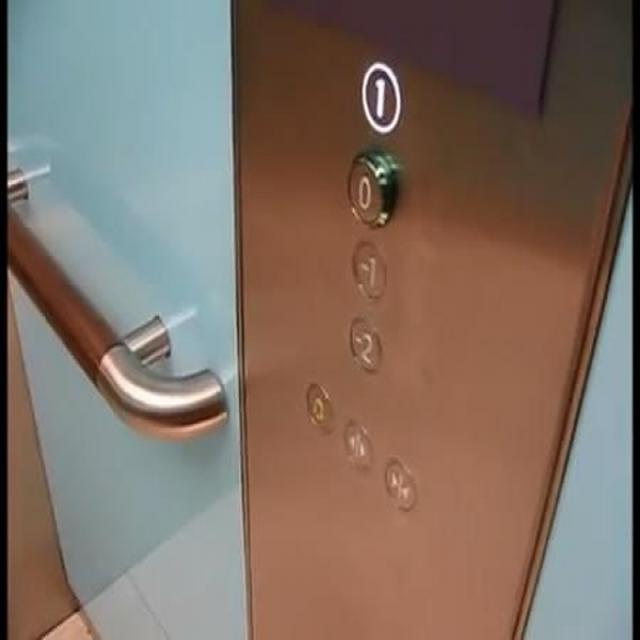-1: (348, 236, 388, 303)
-2: (346, 316, 383, 373)
0: (342, 147, 395, 230)
1: (359, 60, 400, 136)
alarm: (304, 379, 331, 432)
close: (381, 453, 415, 511)
open: (339, 415, 372, 469)
